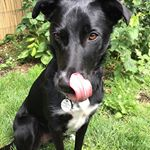puppy: (18, 1, 136, 119)
